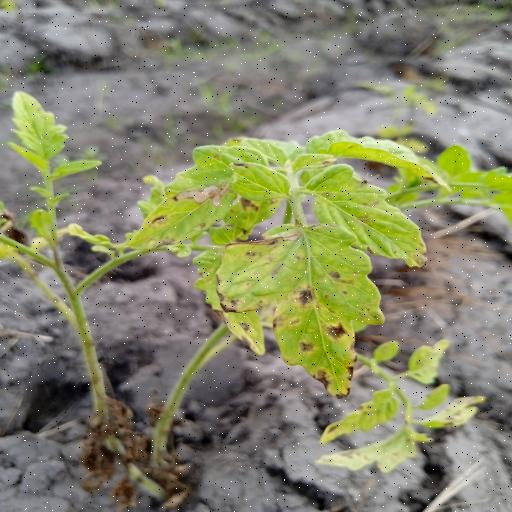Tomato_Brown_Spots: (217, 221, 384, 399)
